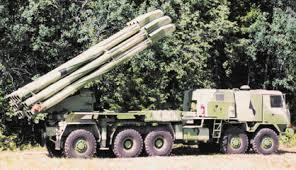MIL_SAM_TEL: (9, 9, 295, 158)
